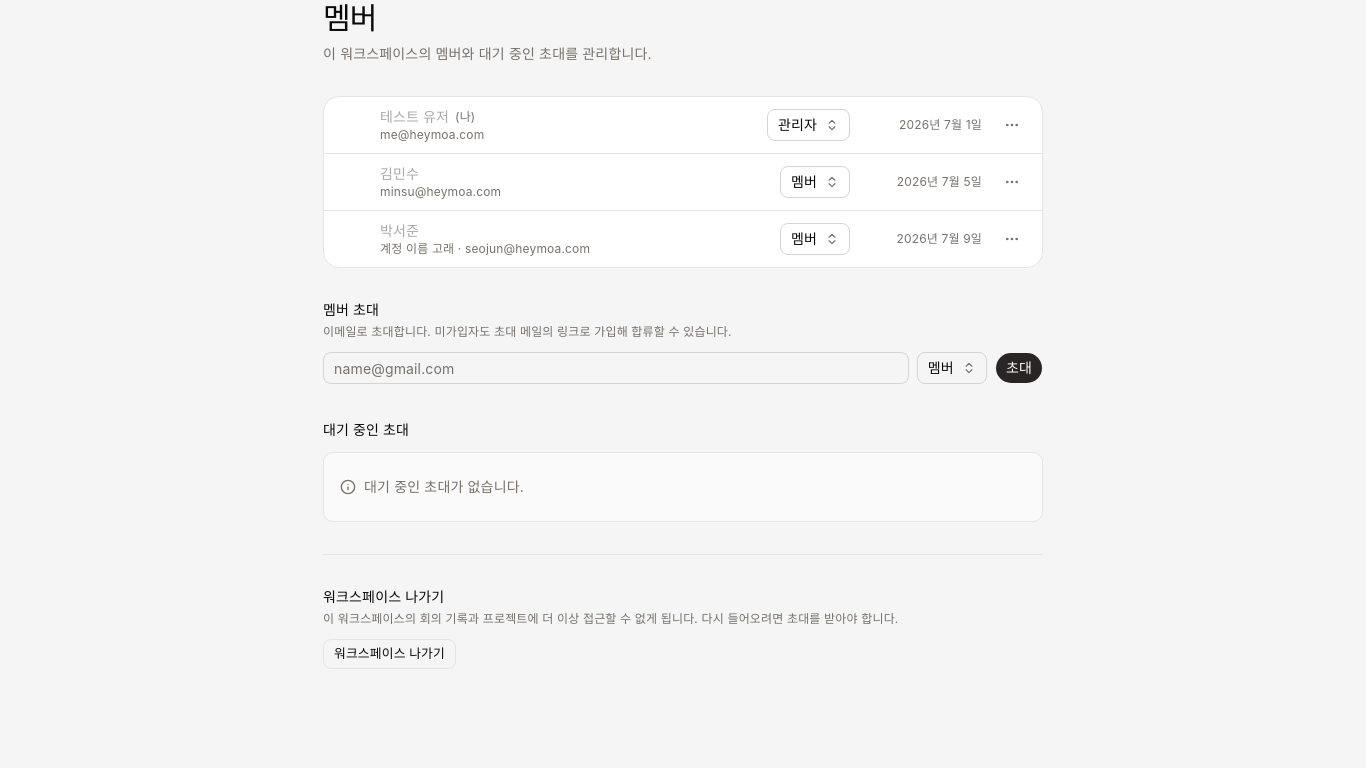
Test: MembersSettings › 추방은 확인 다이얼로그를 거친 뒤에만 mutation을 부르고, 성공하면 다이얼로그를 닫는다
Click the button named "김민수(minsu@heymoa.com) 관리" at (1012, 182), box [998,168,1026,196]
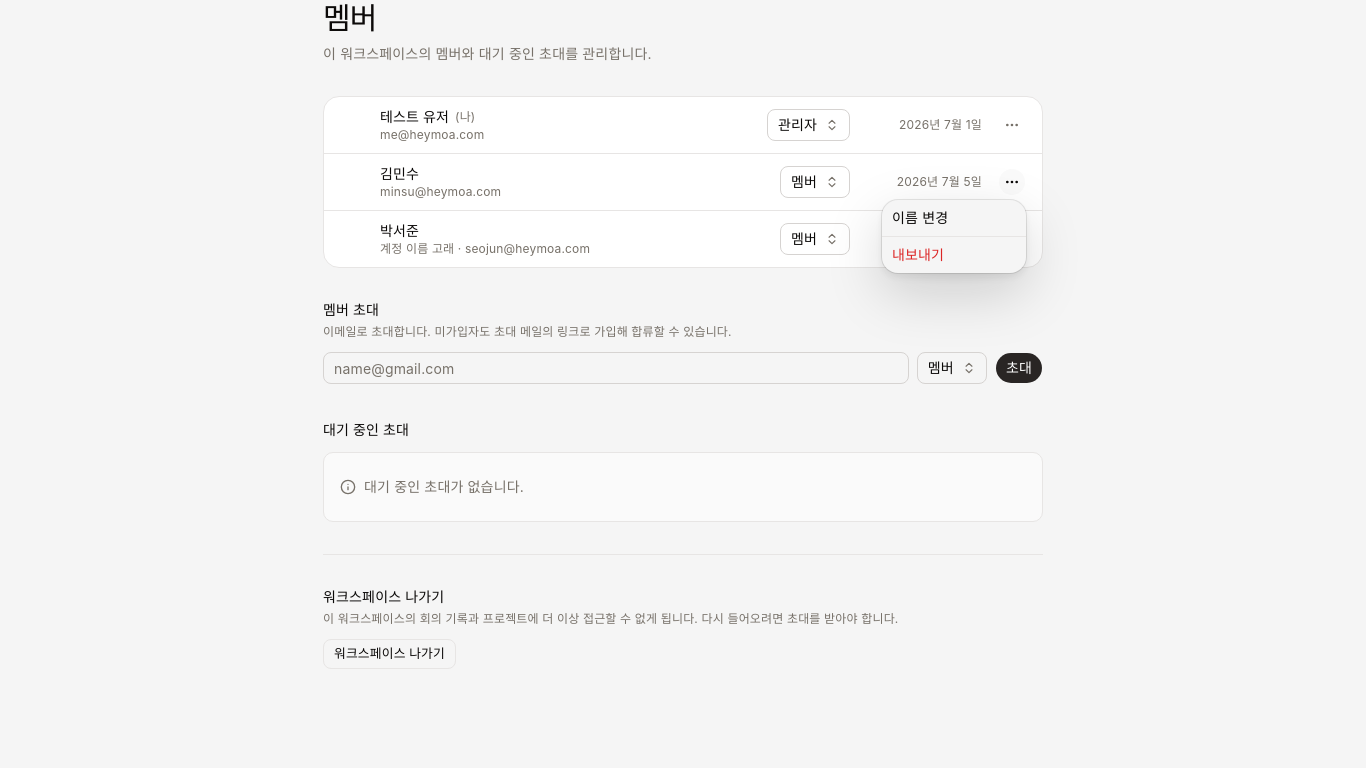
Click the menu item "내보내기" at (918, 254), box [892,246,944,263]
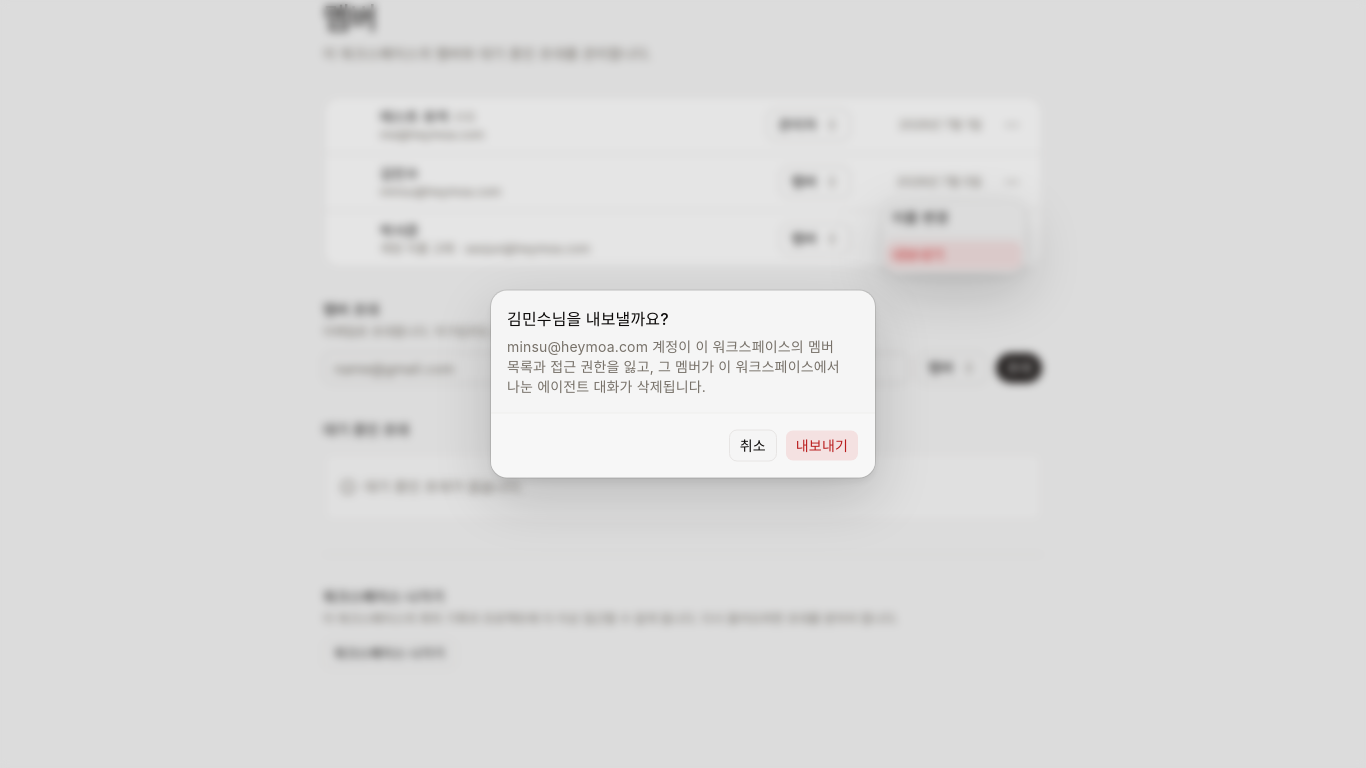
Click the button "내보내기" at (822, 446), box [785,430,859,462]
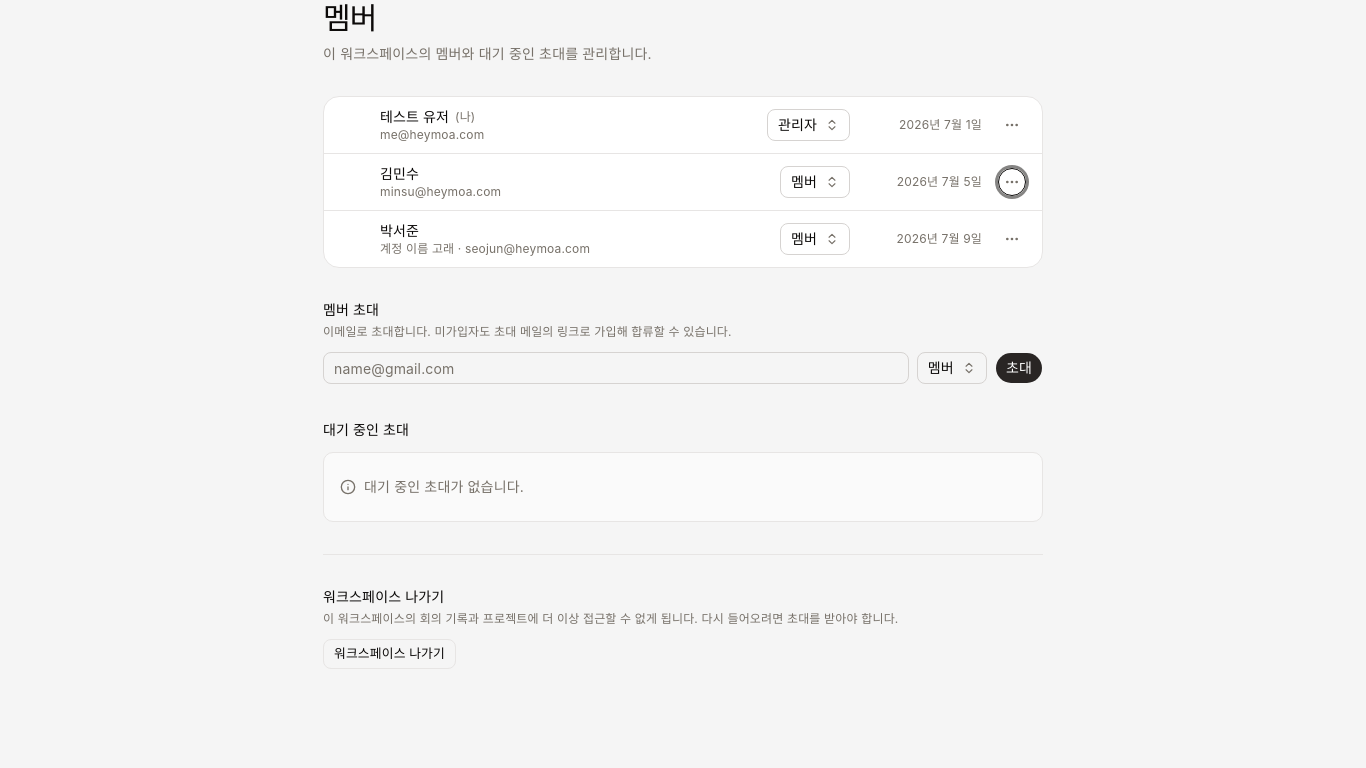
Expected: the dialog is gone
